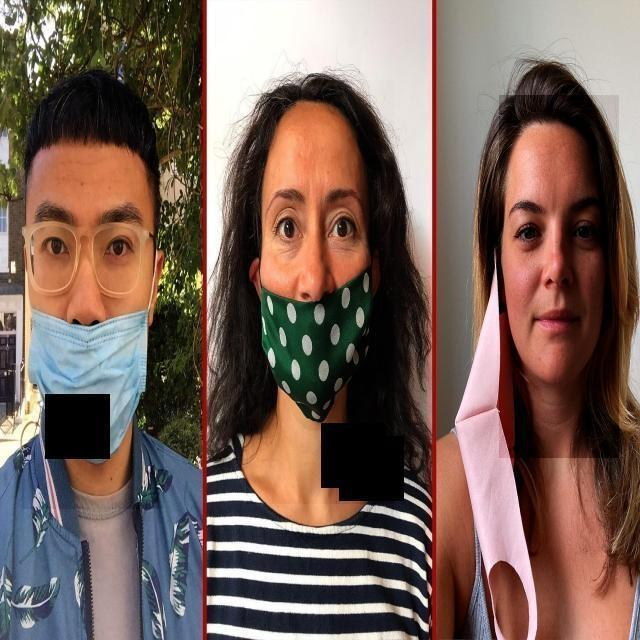hairnet: (22, 275, 154, 464), (246, 245, 377, 424)
no_gloves: (224, 56, 410, 192), (470, 54, 634, 198), (19, 64, 166, 212)
no_hairnet: (499, 238, 608, 381)
